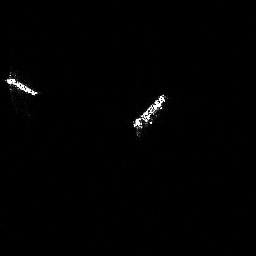ship: (131, 92, 168, 140), (4, 71, 41, 102)
